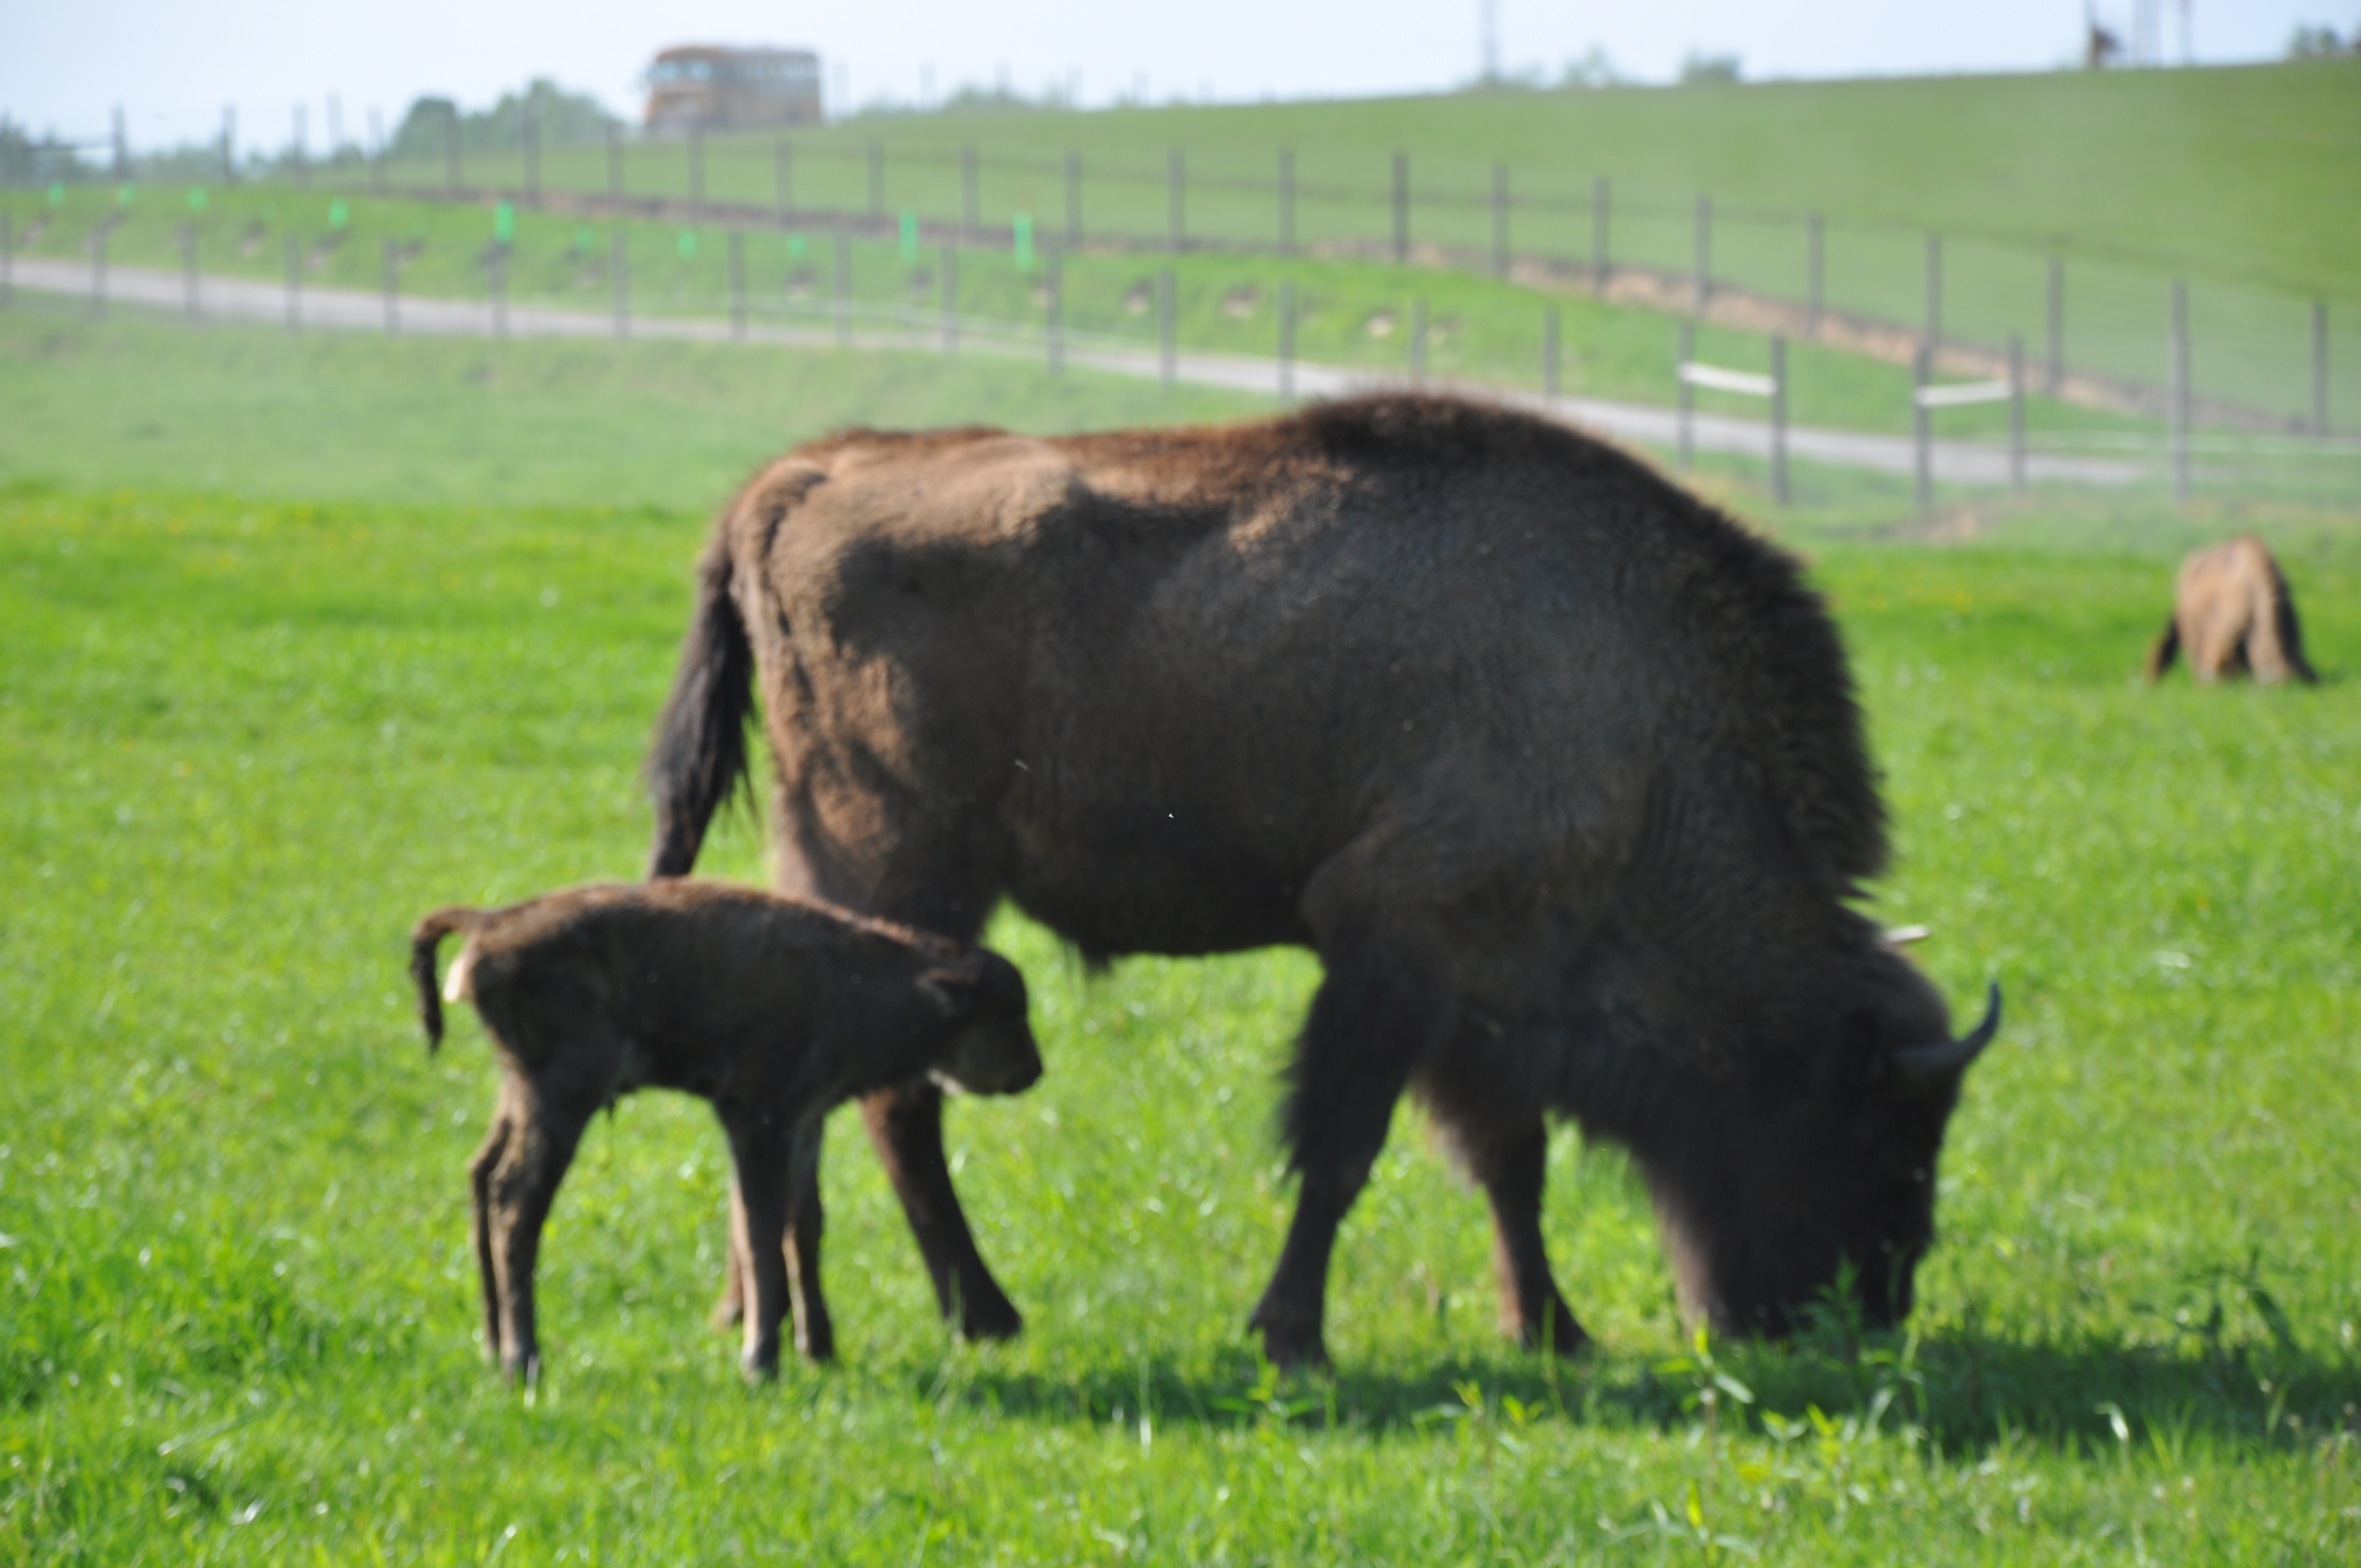zubr: (567, 364, 2081, 1414), (256, 814, 1127, 1400)
